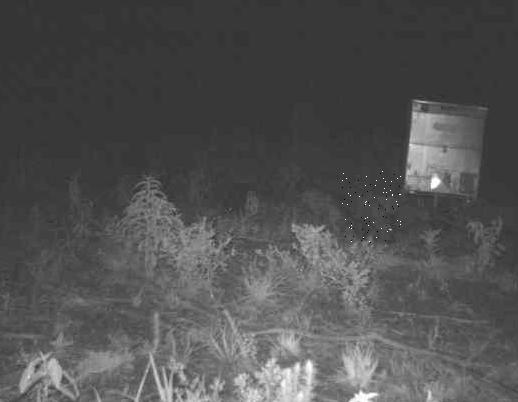Hog: (341, 170, 400, 243)
